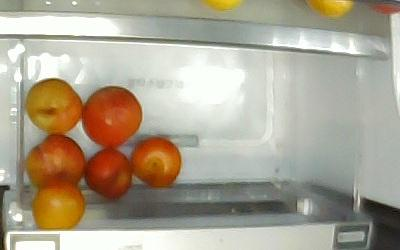prune: (81, 87, 142, 149), (24, 136, 86, 190), (25, 78, 81, 135), (131, 137, 182, 188), (33, 180, 85, 228), (83, 148, 132, 198)
